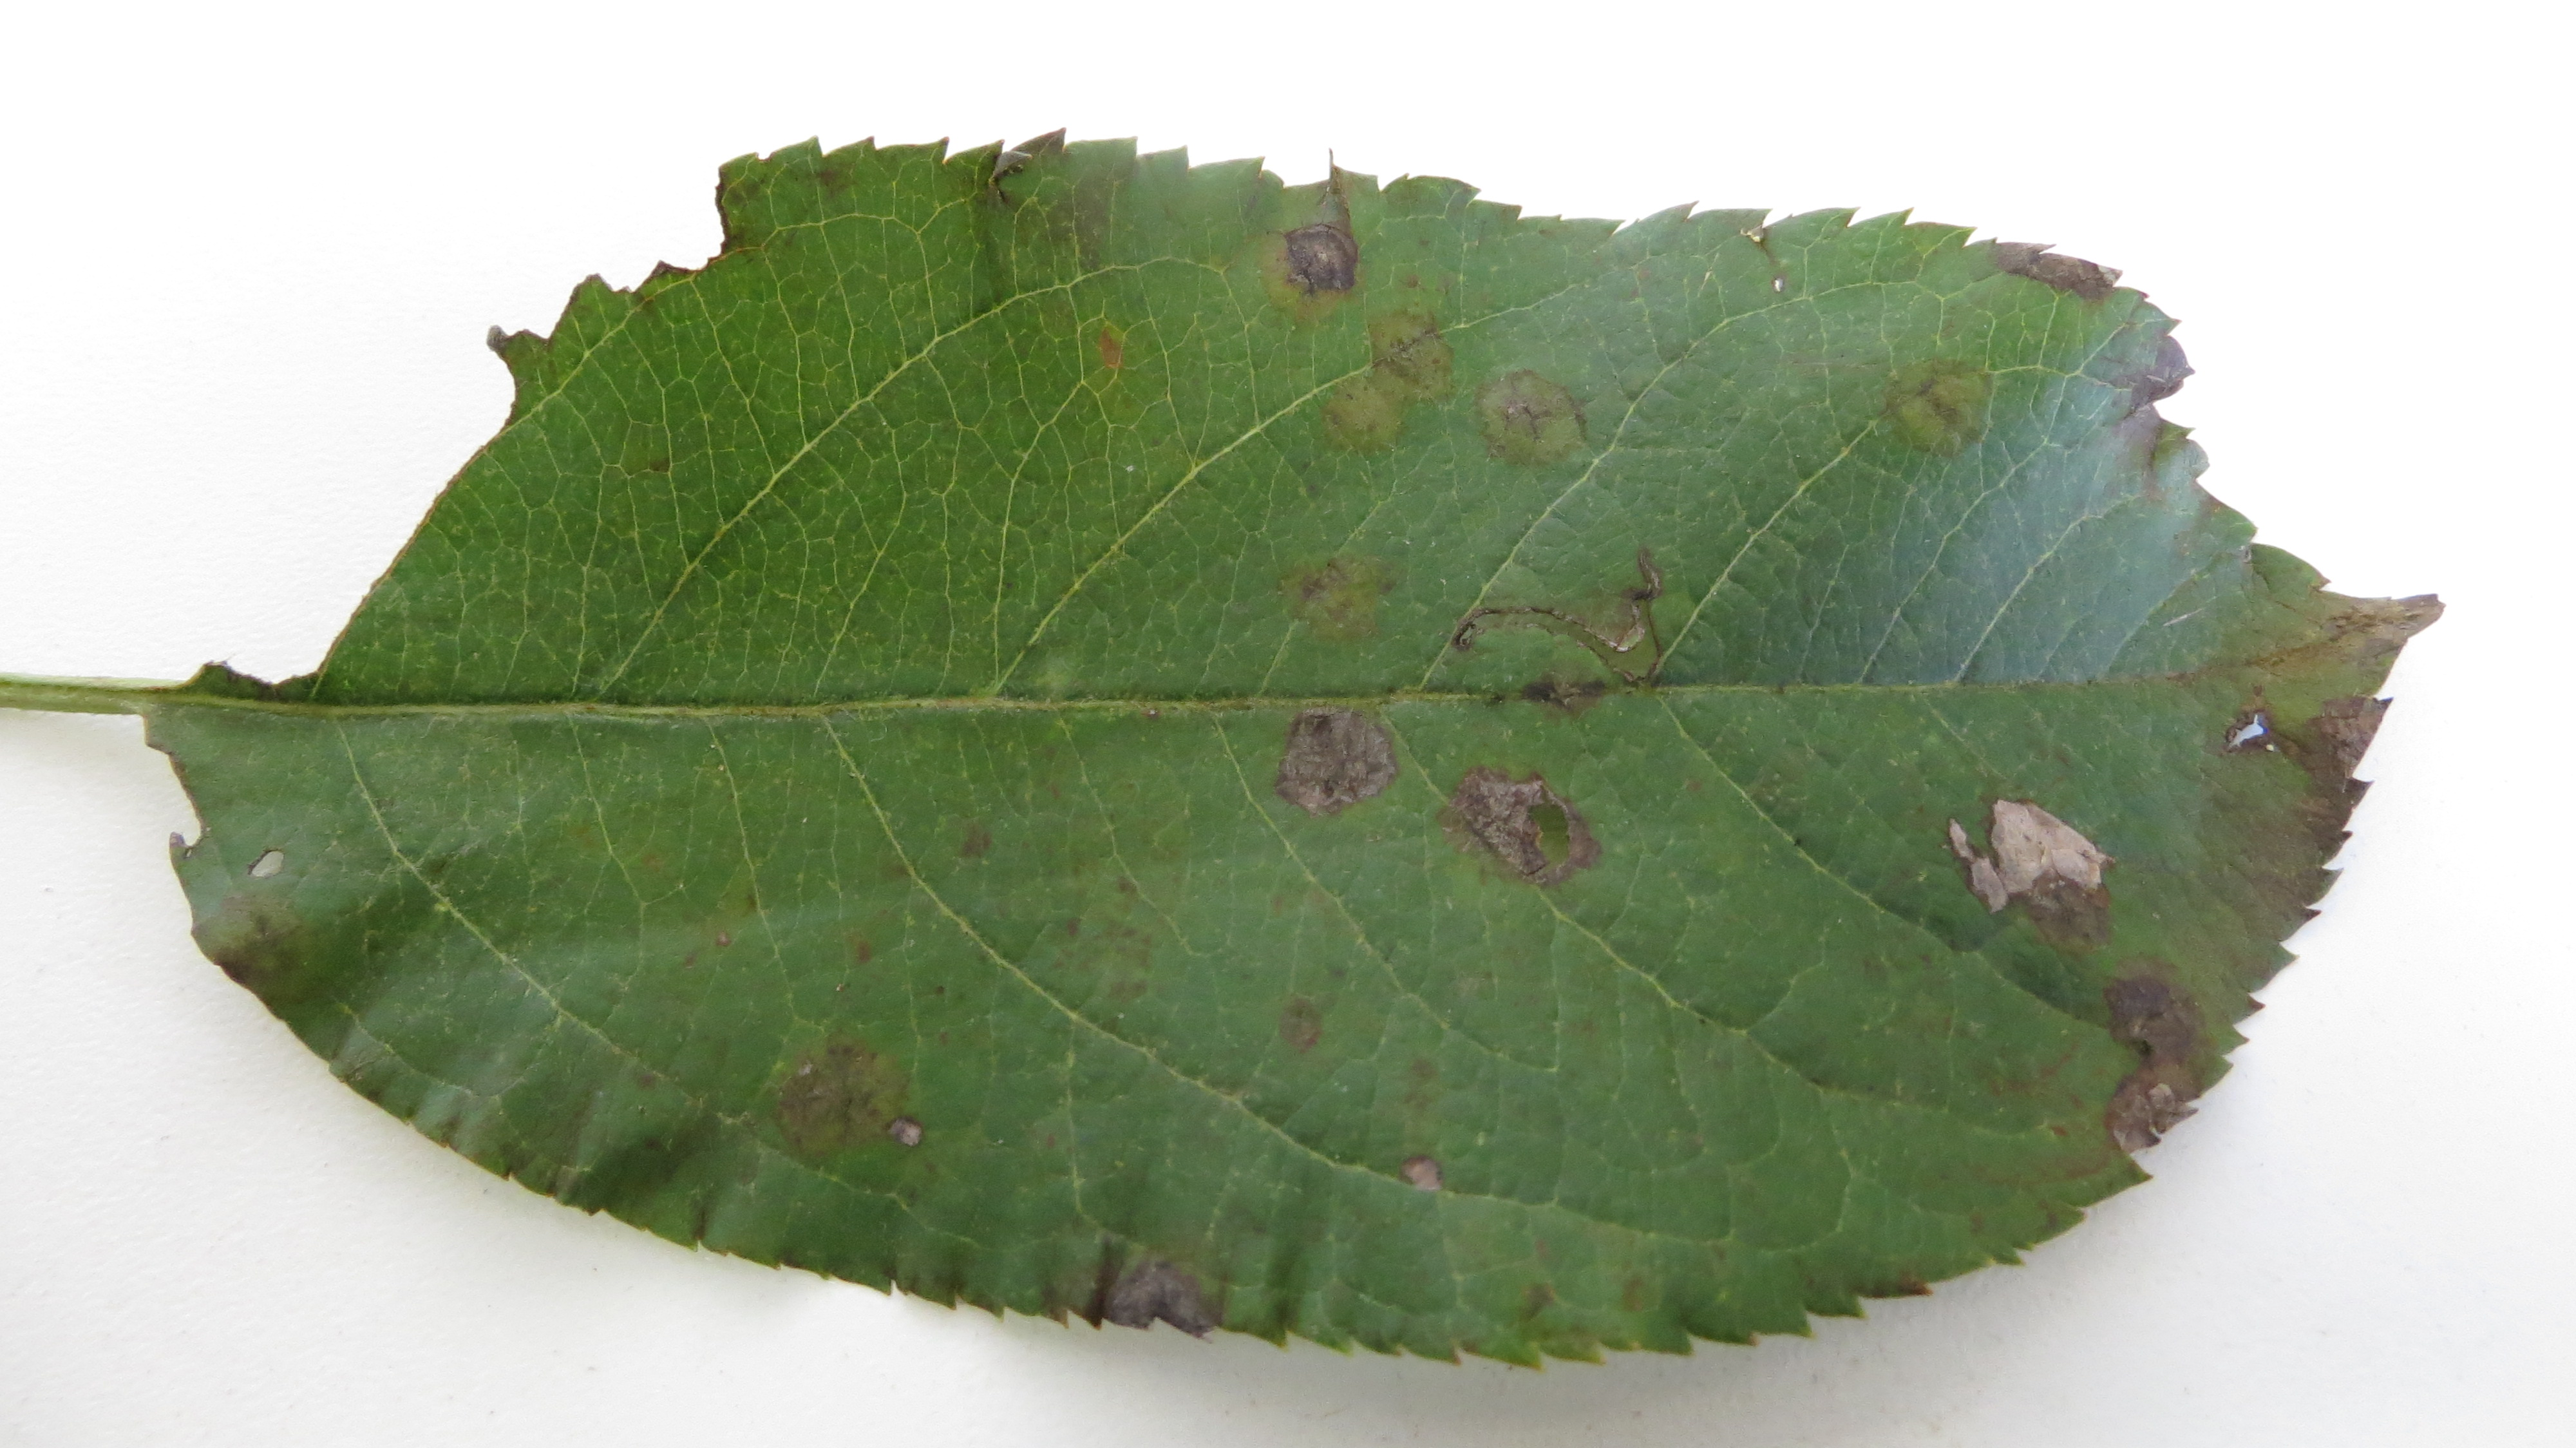sarna: (1444, 547, 1674, 720), (1946, 775, 2120, 956), (2196, 579, 2454, 696), (2100, 961, 2220, 1181), (2189, 779, 2325, 951), (763, 1027, 916, 1165), (1967, 1002, 2098, 1151), (1062, 1225, 1226, 1342), (2212, 687, 2380, 800), (1440, 759, 1598, 880), (184, 869, 331, 995), (1067, 857, 1178, 1020), (2100, 333, 2197, 504), (1265, 696, 1391, 821), (1274, 536, 1399, 651), (1470, 361, 1594, 474), (1879, 343, 1992, 462), (1254, 202, 1364, 322), (1037, 159, 1139, 281), (1989, 227, 2127, 315), (1302, 358, 1408, 466), (1583, 1227, 1675, 1349), (1359, 306, 1454, 397), (1490, 1267, 1589, 1352), (1253, 977, 1336, 1060), (1077, 312, 1148, 381), (945, 798, 1005, 867), (793, 143, 855, 209), (1384, 1140, 1447, 1197)
